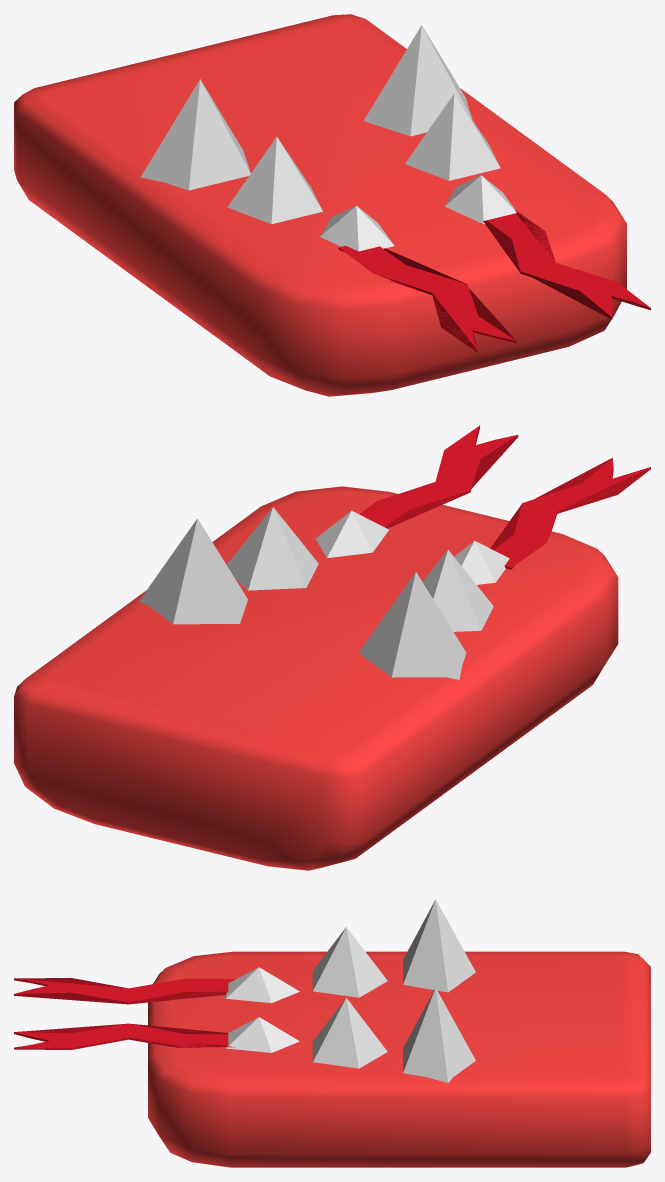
File: LowerHalf.fbx
The picture shows the model from 3 angles, top to bottom: view 1: azimuth 30°, elevation 25°; view 2: azimuth 150°, elevation 25°; view 3: azimuth 270°, elevation 25°; orthographic projection. The views are drawn at different scales.
Parts seen in each view (by area): view 1: Cube, Cone.006, Cone.007, Cube.001, Cube.004, Cone.005, Cone.004, Cone, Cone.001; view 2: Cube, Cone.006, Cone.007, Cube.004, Cube.001, Cone.005, Cone.004, Cone, Cone.001; view 3: Cube, Cube.004, Cone.007, Cone.006, Cube.001, Cone.004, Cone.005, Cone.001, Cone.
Part boxes in pixels (box(x1,y1,x2,y2)): Cube: box(14, 14, 626, 396); Cone.006: box(140, 79, 250, 190); Cone.007: box(363, 25, 472, 136); Cube.001: box(483, 210, 650, 319); Cube.004: box(338, 245, 516, 352); Cone.005: box(405, 93, 500, 180); Cone.004: box(227, 137, 322, 224); Cone: box(445, 175, 516, 224); Cone.001: box(320, 206, 394, 251); Cube: box(14, 486, 618, 870); Cone.006: box(358, 572, 466, 679); Cone.007: box(139, 518, 247, 624); Cube.004: box(490, 458, 650, 569); Cube.001: box(359, 425, 518, 528); Cone.005: box(226, 507, 318, 590); Cone.004: box(422, 550, 493, 631); Cone: box(315, 510, 388, 557); Cone.001: box(454, 541, 509, 584); Cube: box(148, 951, 650, 1167); Cube.004: box(14, 978, 235, 1004); Cone.007: box(403, 988, 475, 1082); Cone.006: box(403, 899, 475, 992); Cube.001: box(14, 1023, 234, 1049); Cone.004: box(312, 927, 387, 997); Cone.005: box(312, 998, 387, 1068); Cone.001: box(226, 967, 299, 1003); Cone: box(226, 1017, 299, 1052).
Bounding box in the file's own units: 200 × 116 × 380.
